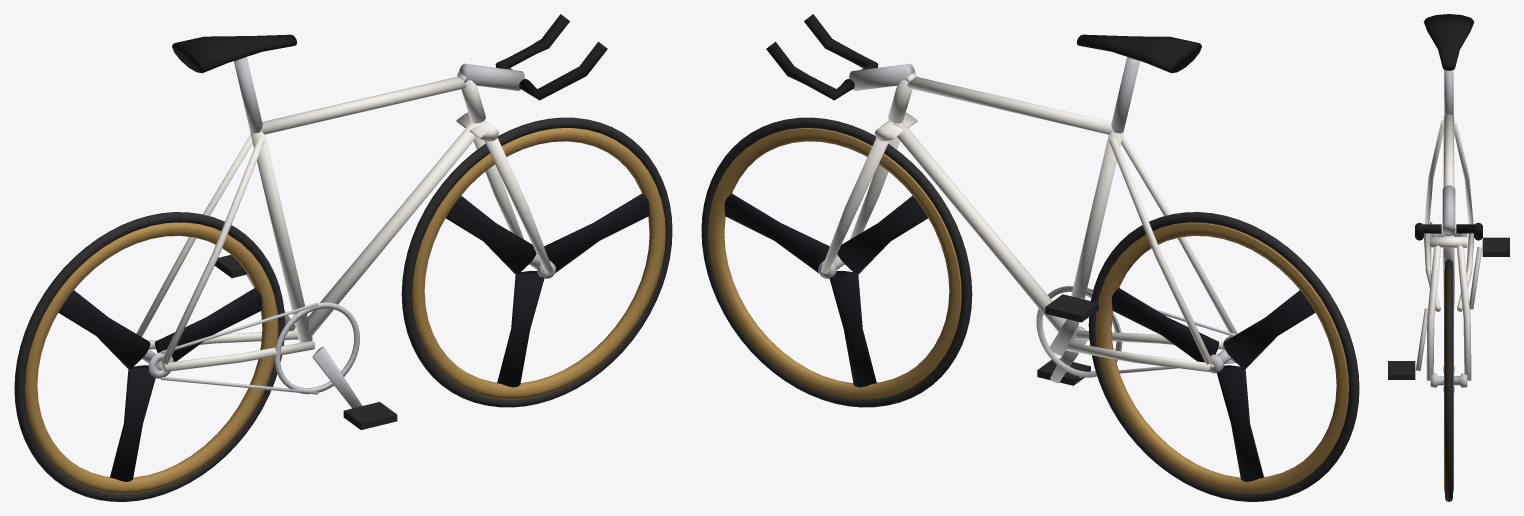
Rendered from bike.glb.
The picture shows the model from 3 angles, left to right: view 1: azimuth 30°, elevation 25°; view 2: azimuth 150°, elevation 25°; view 3: azimuth 270°, elevation 25°; orthographic projection. The views are drawn at different scales.
Visible parts, largest first — view 1: wheel_front_rim, wheel_rear_rim, wheel_front_tyre, wheel_rear_tyre, down_tube, seat_tube, top_tube, saddle, wheel_front_blade2, wheel_rear_blade2, wheel_rear_blade1, wheel_front_blade1 (+15 smaller); view 2: wheel_front_rim, wheel_rear_rim, wheel_front_tyre, wheel_rear_tyre, down_tube, top_tube, saddle, wheel_front_blade2, wheel_rear_blade2, wheel_rear_blade1, wheel_front_blade1, wheel_front_blade0 (+15 smaller); view 3: wheel_front_tyre, saddle, fork_l, fork_r, top_tube, stem, seatstay_l, seatstay_r, pedal_r, pedal_l, seatpost, wheel_front_rim (+9 smaller).
Part boxes in pixels (x1,y1,x2,y2): wheel_front_rim: (412,128,665,399); wheel_rear_rim: (25,222,278,494); wheel_front_tyre: (401,117,672,407); wheel_rear_tyre: (14,212,285,501); down_tube: (307,122,480,336); seat_tube: (250,131,312,342); top_tube: (260,76,466,134); saddle: (172,34,296,73); wheel_front_blade2: (497,271,544,387); wheel_rear_blade2: (110,365,155,481); wheel_rear_blade1: (58,290,150,368); wheel_front_blade1: (446,195,536,274); wheel_front_rim: (708,128,961,399); wheel_rear_rim: (1095,222,1348,494); wheel_front_tyre: (701,117,972,407); wheel_rear_tyre: (1088,212,1359,501); down_tube: (893,122,1065,331); top_tube: (907,76,1113,134); saddle: (1077,34,1201,73); wheel_front_blade2: (829,271,876,387); wheel_rear_blade2: (1217,365,1263,481); wheel_rear_blade1: (1223,290,1315,368); wheel_front_blade1: (837,195,927,274); wheel_front_blade0: (724,193,829,273); wheel_front_tyre: (1445,259,1452,501); saddle: (1423,14,1474,70); fork_l: (1426,245,1440,380); fork_r: (1457,245,1471,380); top_tube: (1444,114,1453,186); stem: (1442,185,1455,234); seatstay_l: (1424,120,1443,224); seatstay_r: (1454,120,1473,224); pedal_r: (1482,237,1509,256); pedal_l: (1388,361,1415,379); seatpost: (1444,70,1453,115); wheel_front_rim: (1444,268,1453,492).
Bounding box in the file's own units: 1.63 × 1.04 × 0.335.
